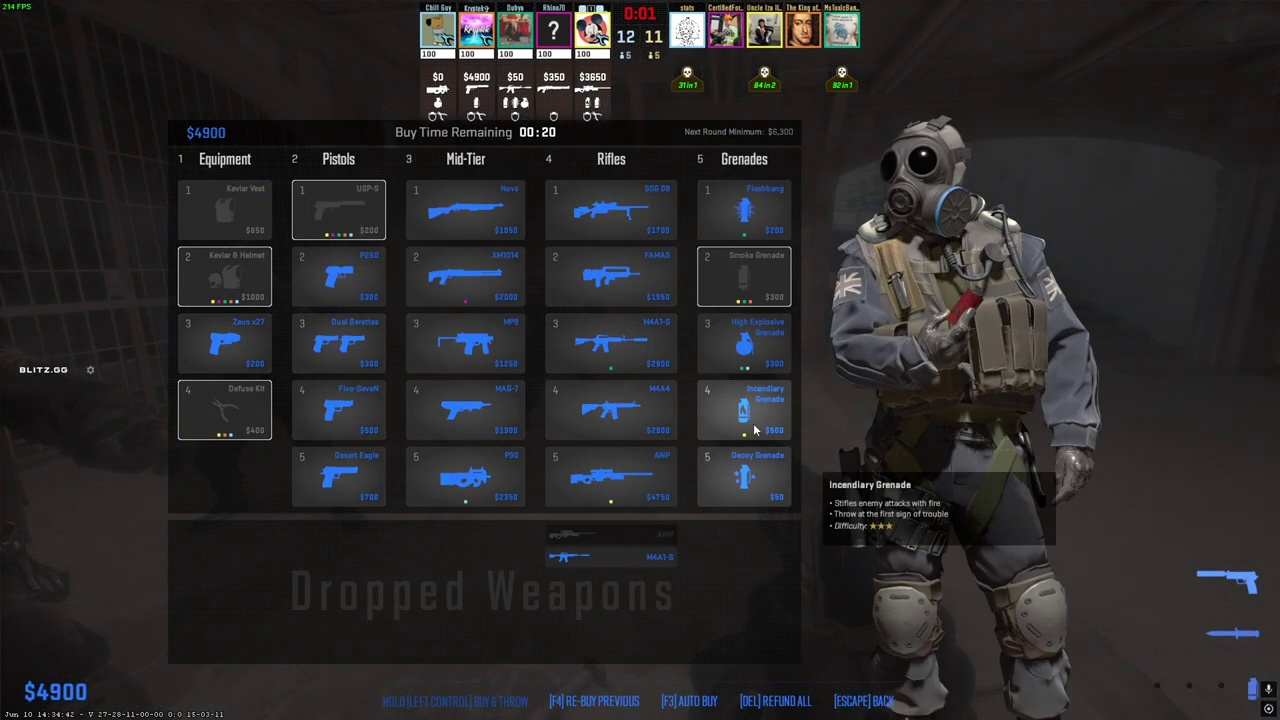CT: (855, 122, 1075, 720)
